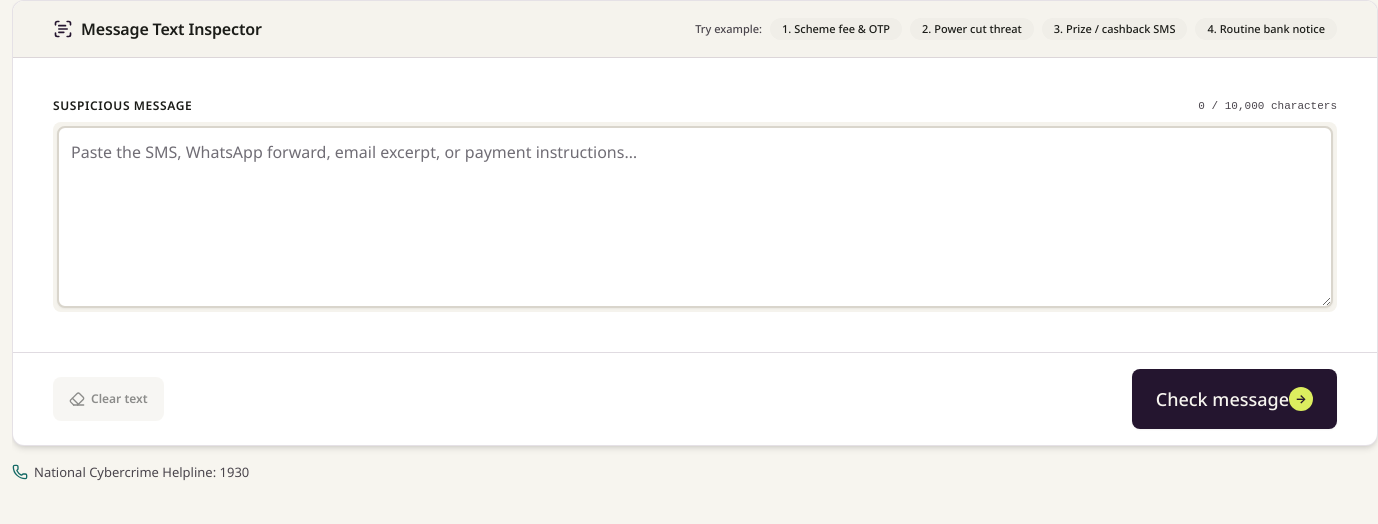
FraudChecker › shows user-friendly error on API failure
In the text box labelled "Suspicious message": (695, 217) [57, 126, 1333, 308], type "Test message"
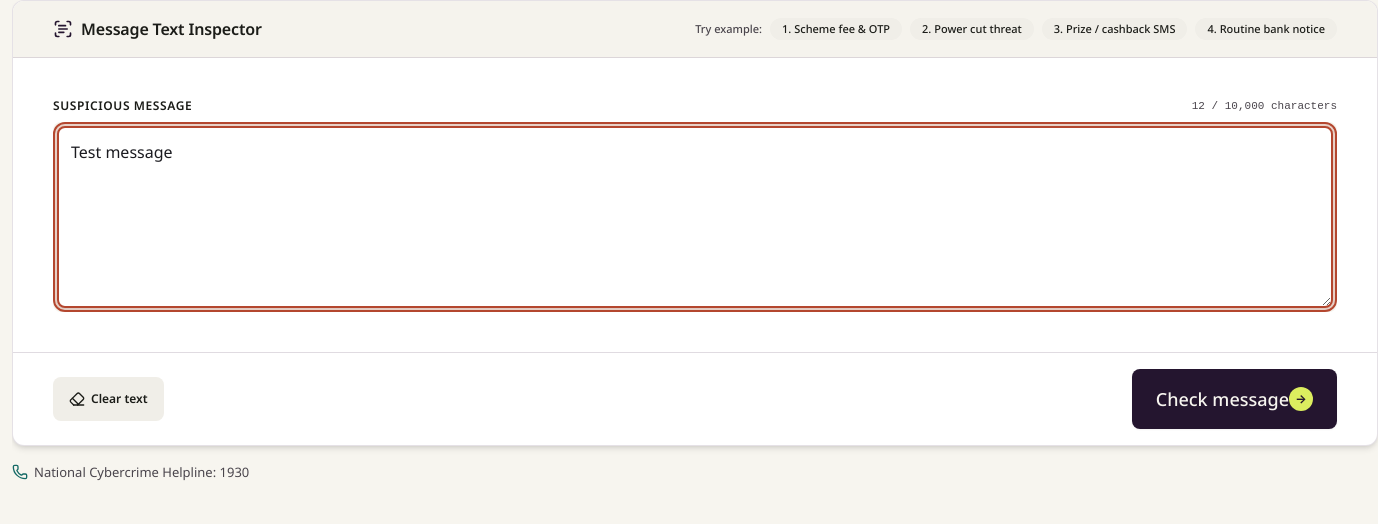
Click the button "Check message →": (1234, 399) [1132, 369, 1337, 429]
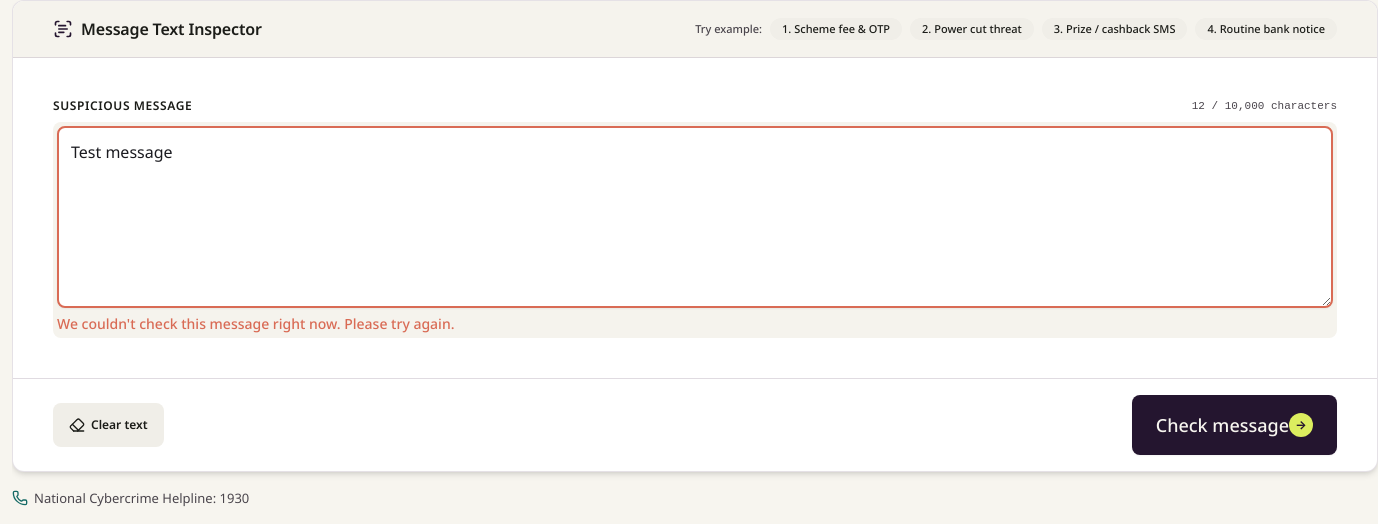
Expected: the text "We couldn't check this message right now. Please try again." is shown, [57, 314, 454, 333]
